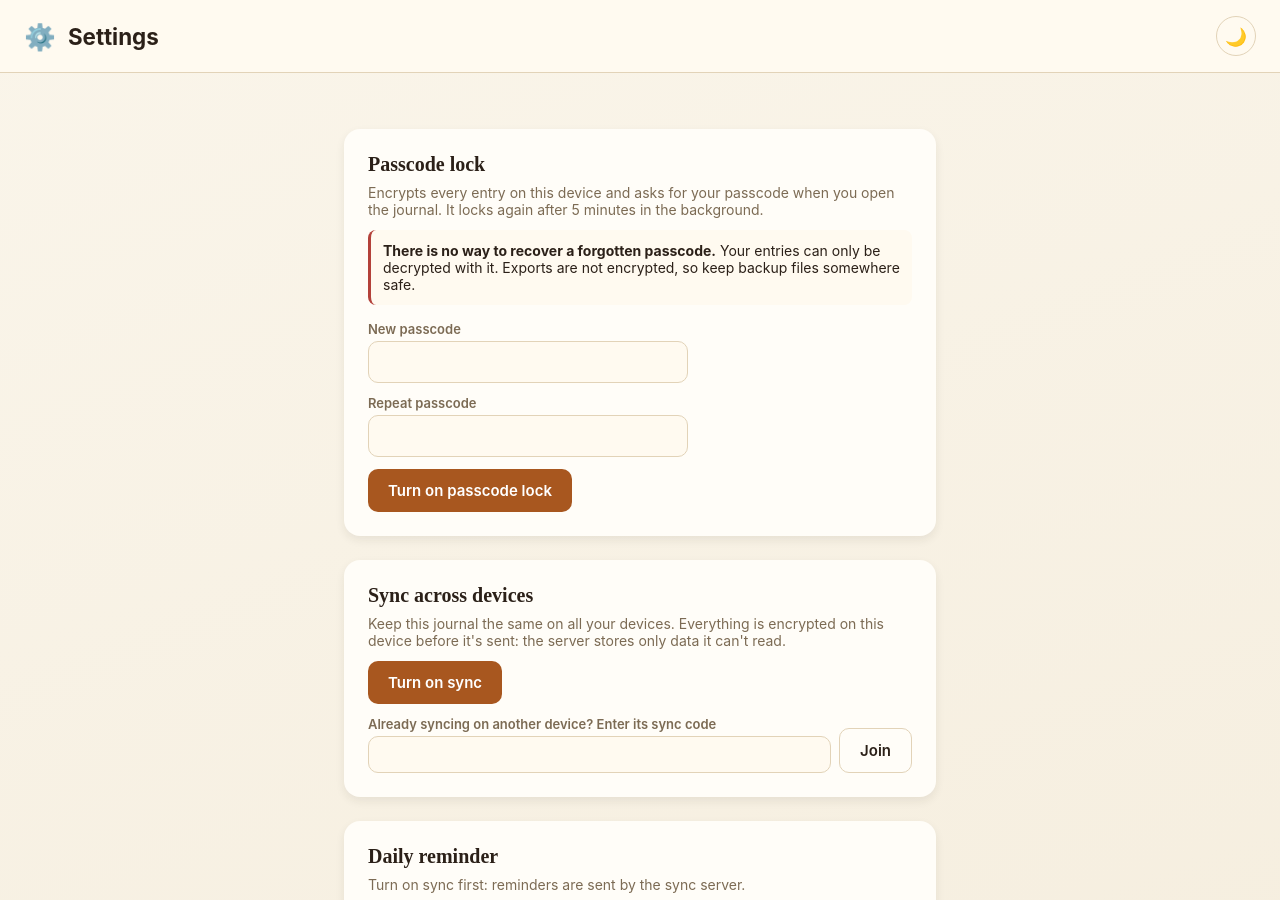
Test: Sync settings › rejects a mistyped code
This screenshot has width=1280, height=900.
In the field labelled "Already syncing on another device? Enter its sync code": (600, 754) [368,736,831,773], type "not-a-code"
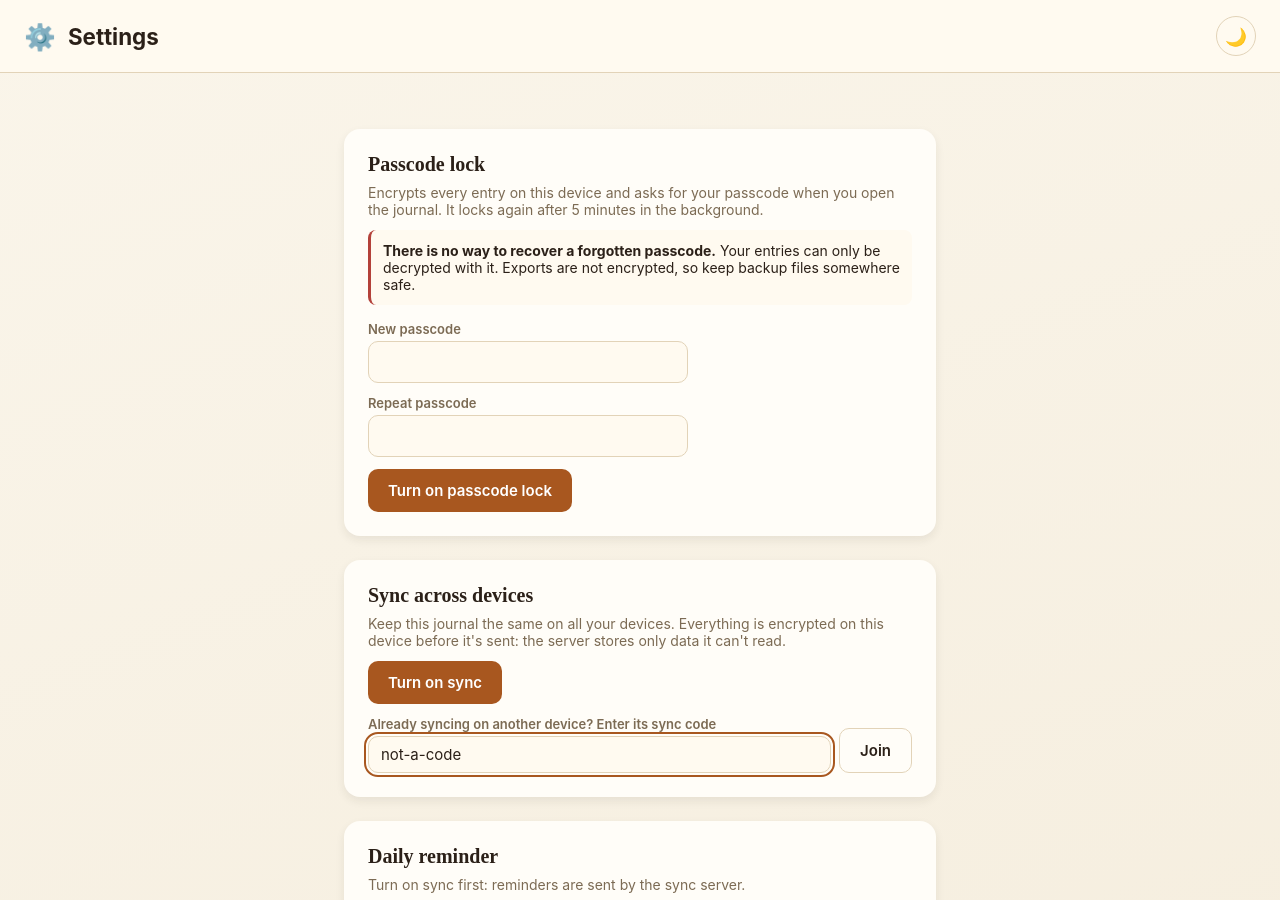
Click the button "Join": (876, 750) [839,728,912,773]
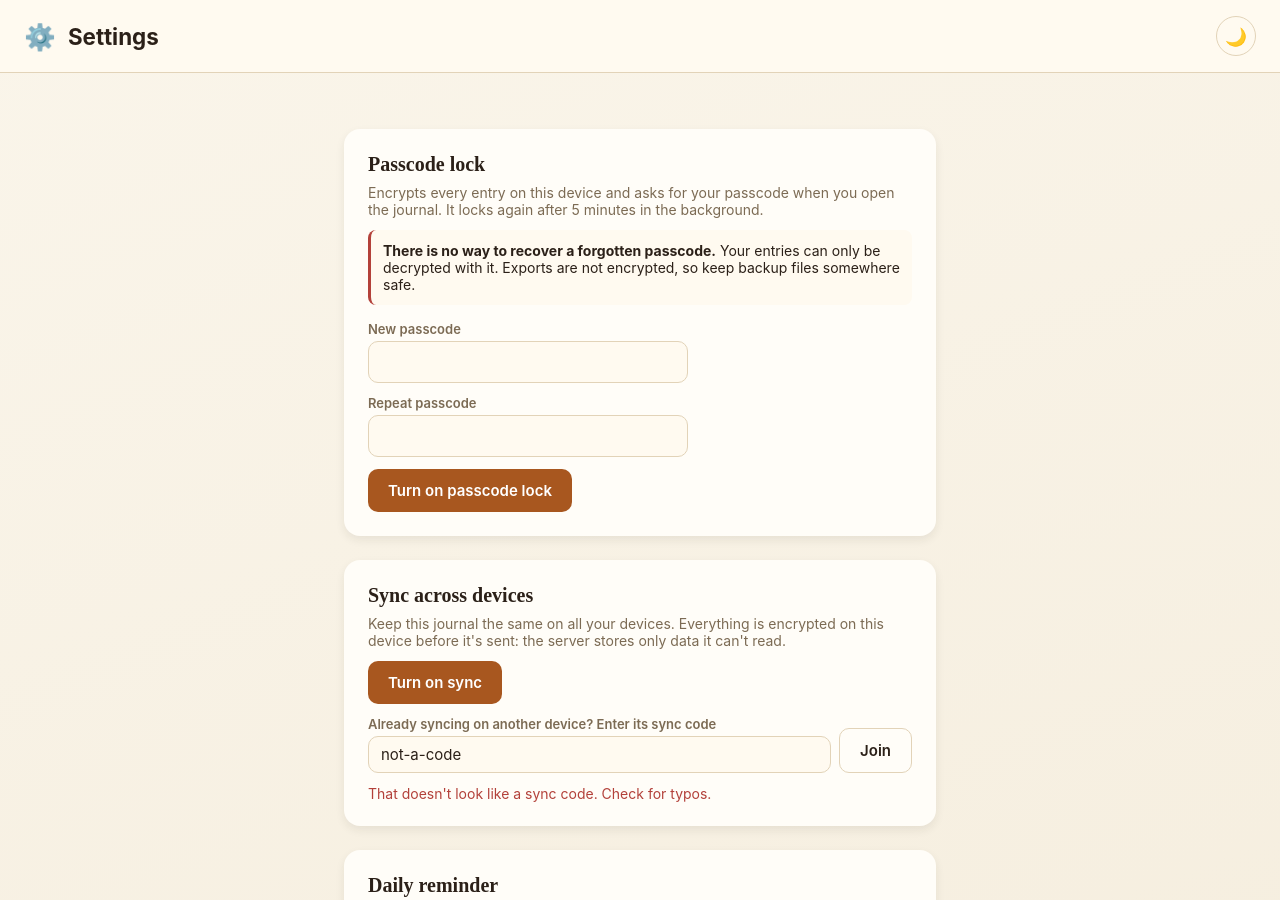
Result: the message shows "doesn't look like a sync code" at [368,785,711,802]
